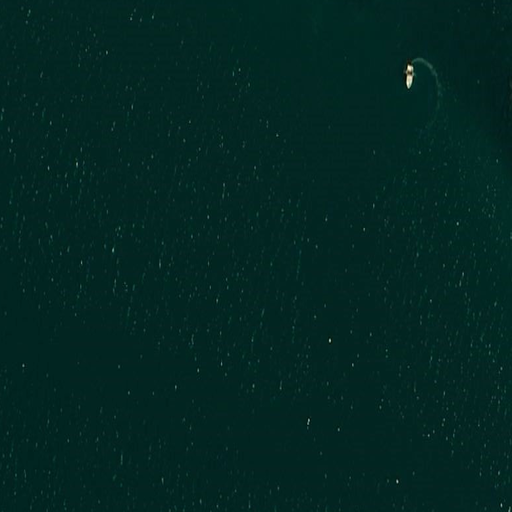ship: (404, 62, 415, 91)
